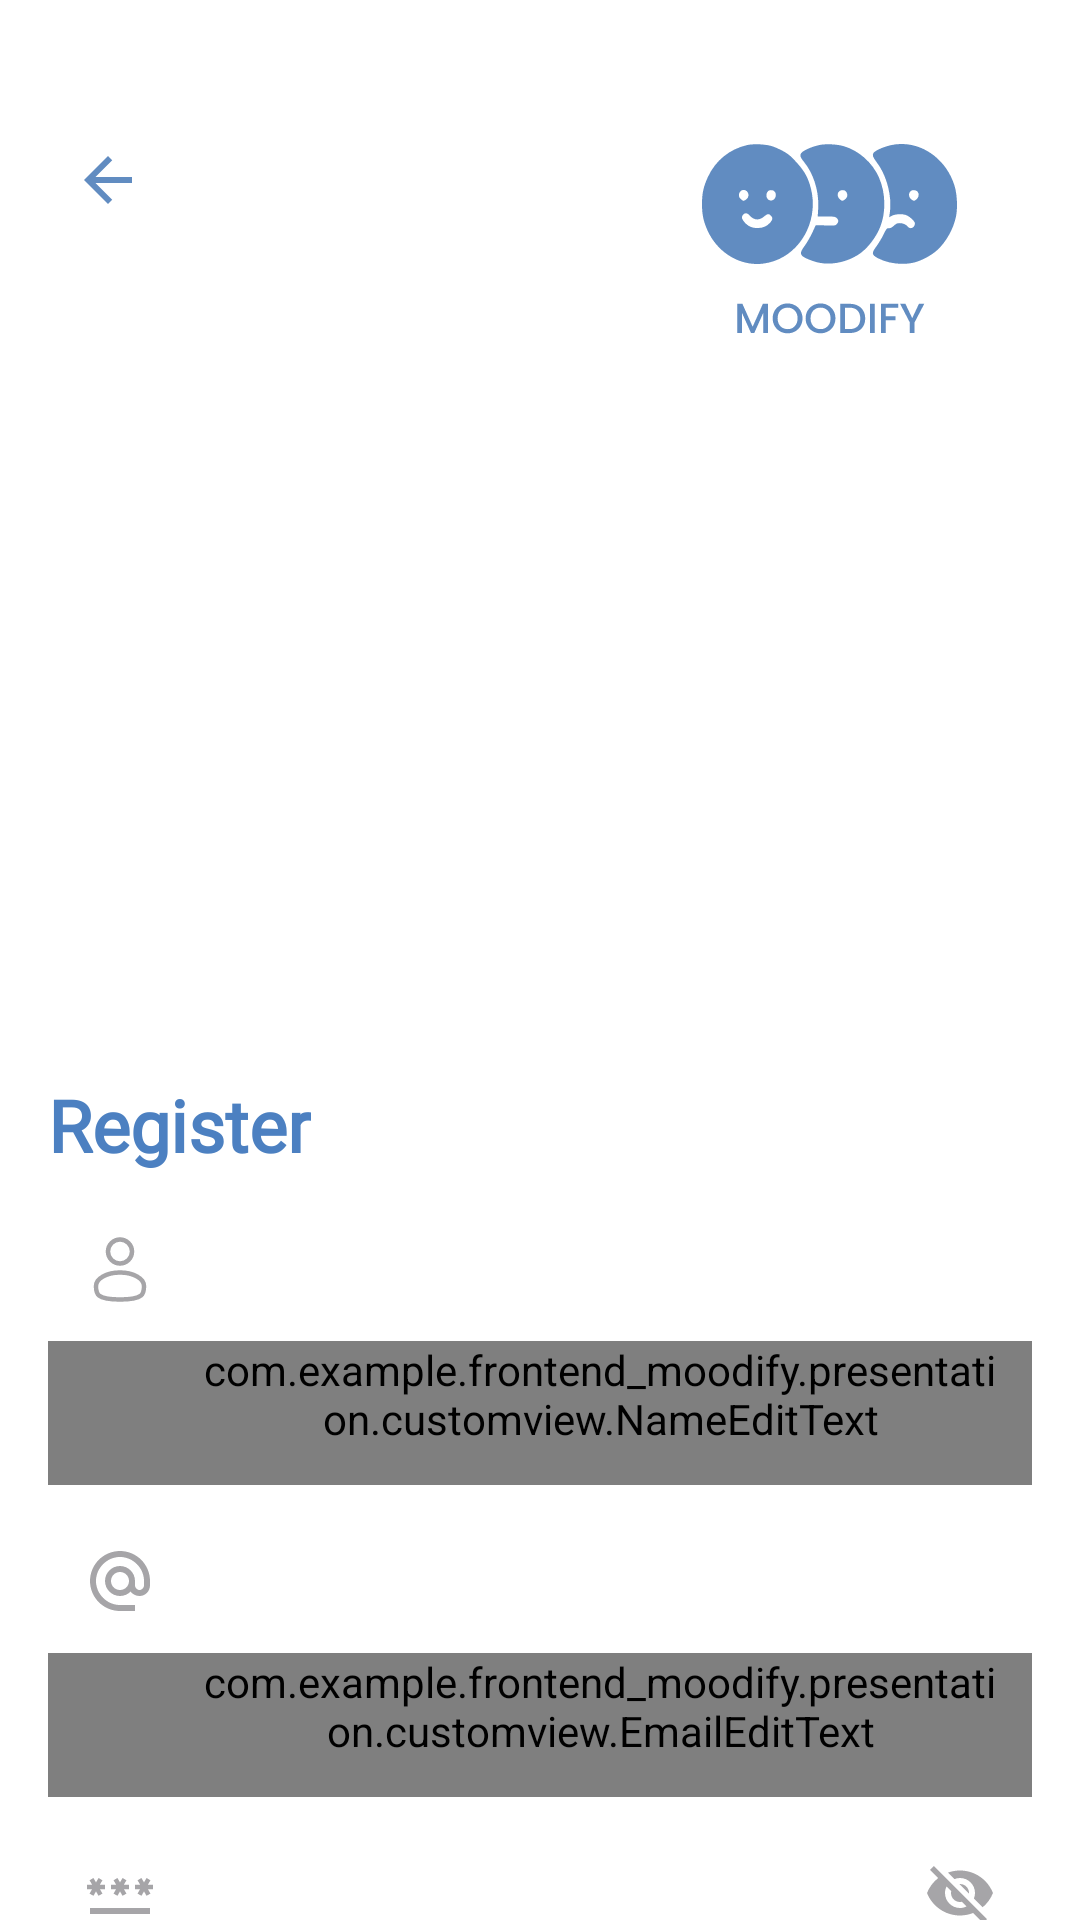

Icons on this 1080*1920 Android screen, each with its box as rect(x1, y1, x2, y2):
Back button: rect(84, 156, 132, 204)
